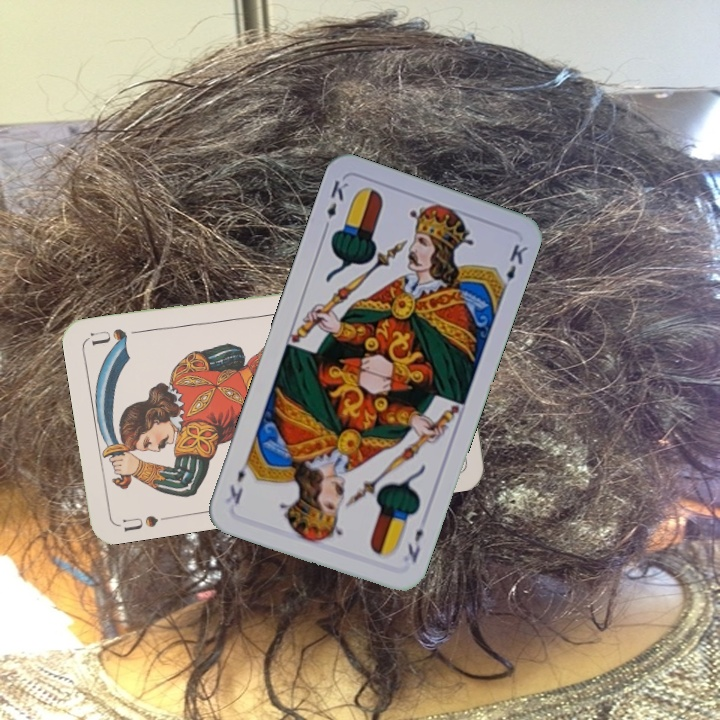EK: (319, 176, 351, 234), (403, 525, 426, 566)
SU: (118, 511, 161, 534)
